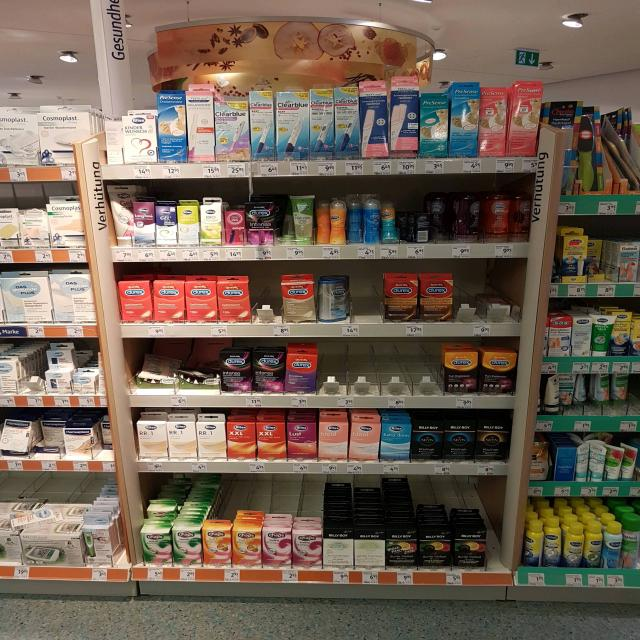void: (454, 260, 490, 348), (251, 262, 281, 338), (359, 259, 386, 339), (382, 337, 410, 414), (349, 338, 378, 411), (415, 340, 442, 407), (323, 337, 345, 411), (97, 413, 120, 475)
